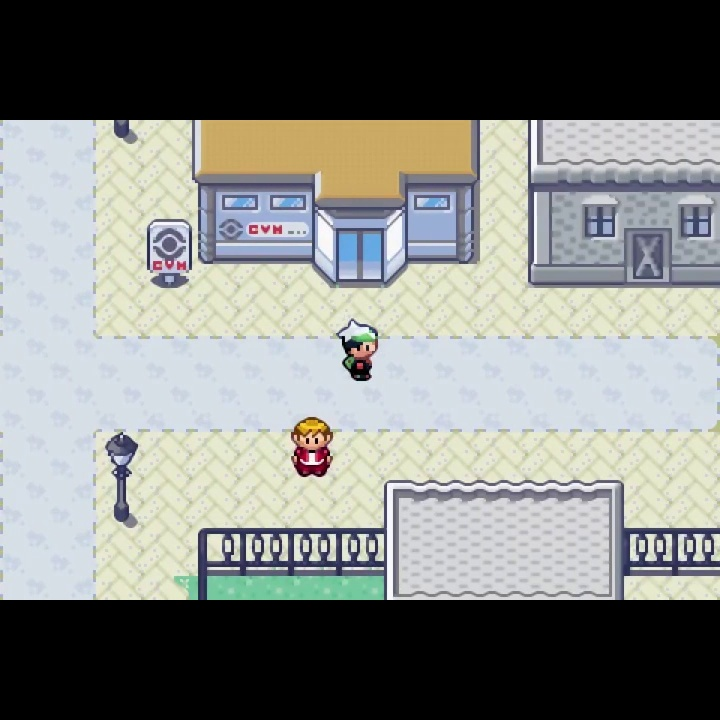agent: (335, 315, 382, 384)
gym: (192, 120, 482, 290)
house: (525, 120, 720, 288), (382, 477, 626, 600)
npc: (288, 414, 336, 478)
